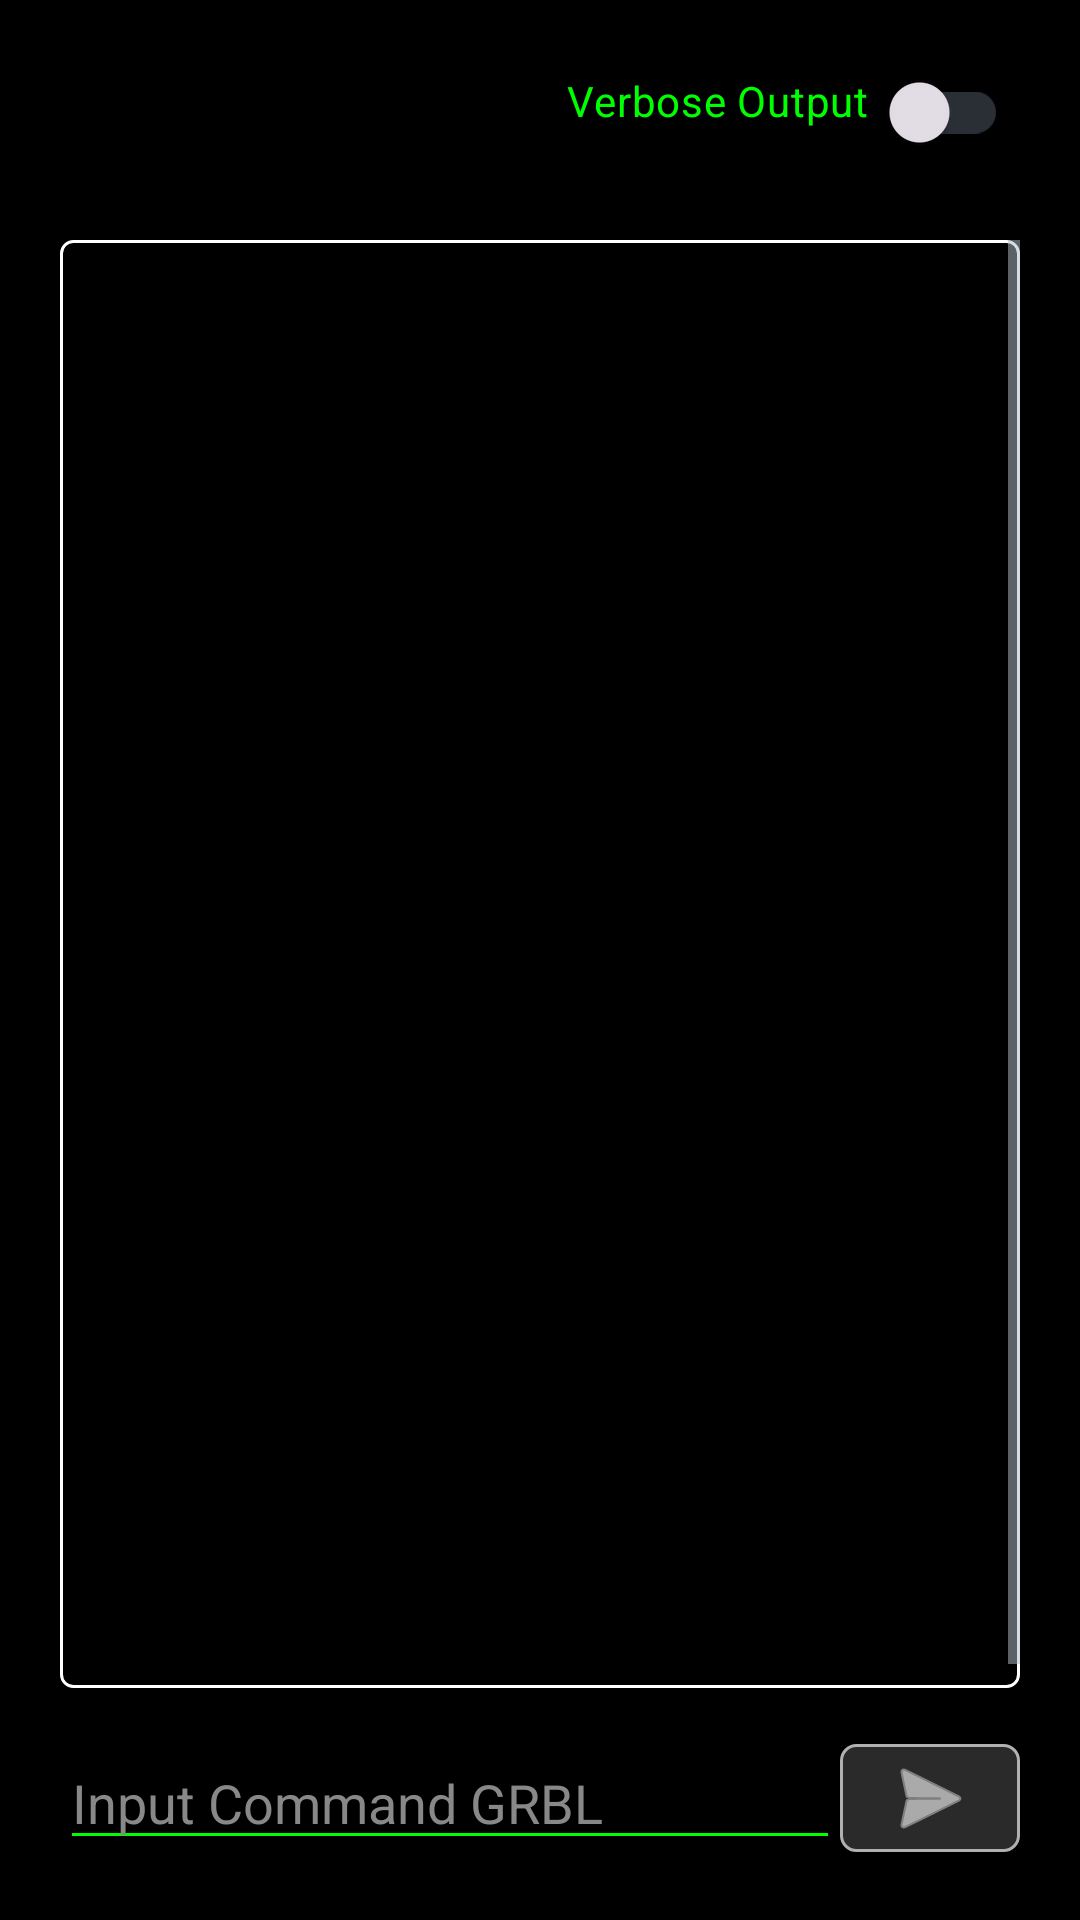

Where icons sit on this 1080px×1920px app screen, as (x1, y1, x2, y2):
send: (840, 1744, 1020, 1852)
